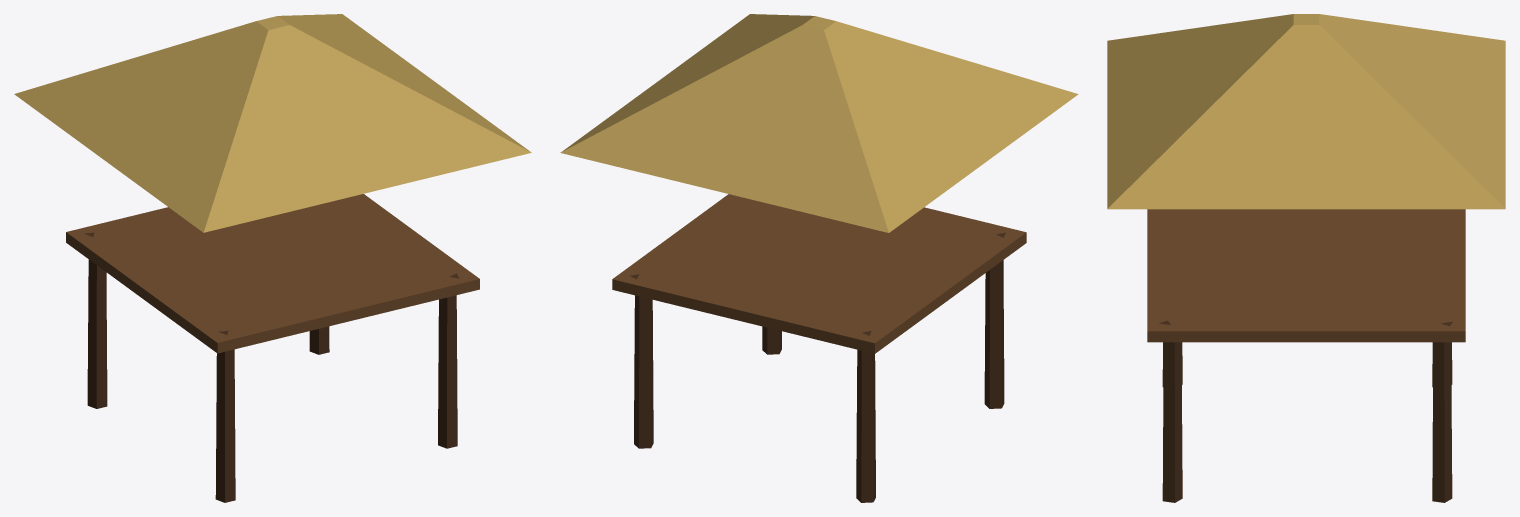
Rendered from prop_wonduumak_lod1.glb.
The picture shows the model from 3 angles, left to right: view 1: azimuth 30°, elevation 25°; view 2: azimuth 150°, elevation 25°; view 3: azimuth 270°, elevation 25°; orthographic projection. The views are drawn at different scales.
Parts seen in each view (by area): view 1: prop_wonduumak_lod1; view 2: prop_wonduumak_lod1; view 3: prop_wonduumak_lod1.
Part boxes in pixels (bbox=[...]): prop_wonduumak_lod1: bbox=[14, 14, 531, 502]; prop_wonduumak_lod1: bbox=[560, 14, 1078, 502]; prop_wonduumak_lod1: bbox=[1107, 14, 1505, 502].
Size of the model in its own units: 3.25 by 3.8 by 3.25.
